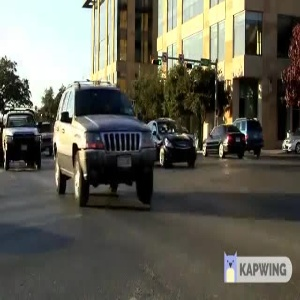car: (148, 117, 200, 166), (202, 123, 248, 159)
truck: (54, 76, 160, 204), (1, 104, 45, 178)
